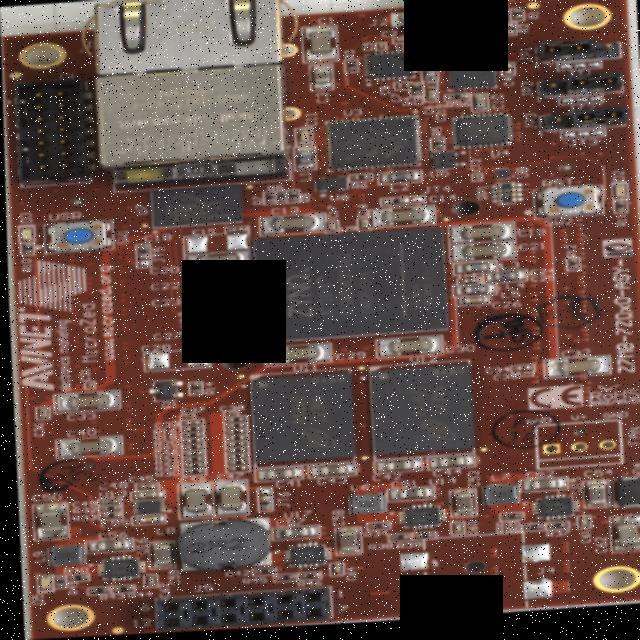-component text- -0821-1X1T-43-F 1402 WM-: (124, 85, 252, 111)
-component text- -4A377 D9PXV-: (284, 394, 328, 429), (405, 388, 448, 421)
-component text- -Bel Stewart-: (116, 112, 259, 131)
-component text- -M 08E1512-NNP2 NHM3390-8JW 1236 A0P TW-: (334, 127, 409, 167)
-component text- -VU81 T1 31 CBR1-: (539, 505, 565, 519), (406, 514, 433, 527), (290, 552, 317, 565)
-component text- -VUBI TI 31 CGRI-: (105, 562, 131, 575)
-component text- -XILINX ZYNQTM XC7Z010TM CLG400ACX1345 D4635668A 1C TAIWAN N6K3: (262, 249, 438, 323)
-component text- -YJ612 T1 36K 0KRP-: (373, 59, 407, 79)
-component text- 1AM: (157, 388, 167, 396)
-component text- 1R0: (50, 550, 73, 560), (485, 494, 510, 503), (352, 502, 375, 511)
-component text- 2R2: (184, 538, 246, 556)
-component text- 472: (500, 192, 510, 202)
-component text- C5Y8: (306, 377, 344, 387), (427, 370, 463, 380)
-component text- M: (414, 424, 446, 445), (296, 432, 328, 452)
-component text- MagJack: (115, 128, 267, 159)
-resistor jumper- JT4: (381, 199, 421, 208)
-resistor jumper- JT5: (135, 245, 148, 267)
-resistor jumper- JT6: (256, 490, 268, 513)
-resistor network- RP1: (489, 185, 521, 211)
2005: (180, 463, 201, 469)
2024: (346, 63, 356, 73)
2025: (181, 470, 201, 476)
2033: (97, 506, 117, 512)
2036: (97, 513, 117, 519)
2041: (366, 525, 386, 532)
2045: (498, 518, 518, 524)
2052: (520, 529, 540, 534)
2061: (543, 527, 564, 533)
2066: (387, 538, 407, 544)
2072: (410, 536, 430, 542)
2080: (411, 87, 421, 98)
2081: (63, 574, 83, 580)
2090: (50, 576, 60, 586)
2100: (249, 570, 271, 576)
2111: (85, 587, 105, 593)
2117: (108, 586, 128, 592)
2123: (271, 576, 291, 583)
2128: (295, 575, 315, 581)
2156: (432, 142, 441, 154)
2189: (349, 178, 370, 183)
2200: (264, 194, 274, 204)
2211: (275, 194, 285, 204)
2222: (286, 193, 295, 203)
2229: (445, 98, 467, 103)
2234: (224, 461, 245, 466), (225, 467, 245, 472), (224, 455, 244, 460), (224, 449, 244, 454), (224, 443, 244, 448), (222, 418, 242, 423), (223, 437, 243, 441), (223, 431, 243, 435), (223, 425, 243, 429)
2303: (39, 461, 90, 492)
2368: (502, 418, 538, 452)
2389: (477, 321, 530, 352)
2537: (583, 394, 640, 413)
2615: (540, 302, 586, 329)
2620: (601, 247, 636, 381)
2627: (51, 318, 72, 392)
2636: (92, 265, 116, 361)
2644: (499, 45, 509, 53), (332, 592, 340, 601), (535, 134, 541, 141), (532, 67, 539, 73), (533, 101, 539, 107)
2661: (127, 619, 149, 628)
2766: (133, 604, 147, 612)
2769: (332, 607, 346, 617)
2831: (14, 303, 52, 392)
2844: (316, 20, 333, 28)
2845: (489, 98, 504, 114)
2856: (301, 114, 318, 129)
2867: (467, 162, 480, 177)
2878: (268, 208, 298, 218)
2889: (427, 197, 457, 207)
2900: (189, 229, 215, 236)
2911: (354, 207, 366, 220)
2922: (325, 207, 337, 221)
2933: (141, 233, 171, 243)
2944: (515, 233, 544, 242)
2955: (380, 34, 398, 41)
2956: (146, 266, 177, 276)
2967: (516, 247, 542, 256)
2977: (432, 108, 445, 126)
2978: (147, 282, 178, 292)
2979: (418, 48, 430, 67)
2989: (148, 298, 179, 308)
3000: (527, 273, 553, 280)
3011: (528, 280, 554, 287)
3021: (488, 304, 518, 314)
3027: (149, 331, 181, 342)
3036: (137, 344, 169, 353)
3047: (333, 353, 364, 363)
3057: (313, 94, 328, 106)
3058: (442, 348, 473, 358)
3069: (76, 369, 88, 381)
3079: (557, 354, 589, 363)
3089: (62, 412, 93, 422)
3100: (481, 371, 507, 378)
3111: (489, 378, 515, 385)
3120: (29, 422, 41, 436)
3127: (176, 408, 202, 415)
3135: (215, 406, 241, 413)
3145: (150, 422, 175, 429)
3153: (502, 81, 514, 91)
3154: (62, 429, 94, 438)
3157: (271, 481, 298, 490)
3168: (367, 475, 400, 485)
3178: (312, 479, 343, 488)
3182: (428, 472, 458, 481)
3183: (123, 476, 151, 483)
3184: (175, 477, 202, 484)
3185: (212, 475, 240, 482)
3186: (93, 481, 124, 491)
3187: (67, 501, 93, 508)
3188: (361, 44, 373, 54)
3189: (26, 492, 59, 502)
3190: (385, 484, 413, 492)
3191: (521, 474, 551, 484)
3192: (462, 474, 477, 491)
3193: (579, 473, 609, 483)
3194: (95, 518, 127, 529)
3195: (93, 530, 125, 541)
3196: (270, 520, 303, 529)
3197: (327, 512, 341, 529)
3198: (163, 570, 176, 586)
3199: (421, 108, 433, 118)
3200: (462, 525, 474, 539)
3201: (575, 535, 588, 549)
3202: (589, 542, 604, 560)
3203: (154, 584, 165, 598)
3204: (341, 569, 353, 584)
3210: (389, 96, 401, 106)
3221: (377, 89, 390, 98)
3232: (412, 99, 422, 110)
3246: (526, 390, 579, 414)
3269: (475, 42, 488, 51)
3280: (609, 176, 623, 187)
3287: (16, 210, 31, 223)
3288: (625, 467, 640, 480)
3290: (26, 593, 41, 605)
3361: (622, 432, 638, 452)
3439: (521, 421, 548, 430), (598, 416, 625, 425)
3488: (83, 40, 92, 49)
3501: (367, 22, 388, 30)
3510: (52, 73, 75, 80)
3513: (532, 572, 552, 580)
3514: (189, 585, 211, 594)
3521: (516, 52, 533, 67)
3527: (519, 86, 533, 102)
3534: (522, 118, 537, 134)
3545: (564, 75, 592, 84)
3546: (563, 109, 599, 119)
3547: (565, 143, 598, 153)
3548: (418, 188, 451, 198)
3549: (149, 247, 164, 264)
3550: (272, 493, 289, 510)
3561: (296, 174, 311, 185)
3563: (386, 187, 408, 195)
3564: (496, 266, 518, 274)
3565: (502, 287, 524, 295)
3566: (497, 295, 520, 304)
3567: (345, 486, 367, 494)
3568: (486, 477, 508, 486)
3569: (150, 527, 172, 536)
3570: (27, 550, 42, 562)
3626: (74, 301, 96, 363)
3753: (157, 402, 174, 410)
3766: (527, 16, 539, 25)
3767: (19, 258, 31, 272)
3778: (613, 220, 625, 233)
3789: (563, 249, 575, 263)
3800: (188, 313, 201, 327)
3811: (201, 382, 213, 397)
3833: (148, 428, 174, 435)
3855: (148, 435, 173, 442)
3877: (517, 28, 529, 38)
3878: (149, 441, 177, 448)
3900: (150, 446, 176, 453)
3932: (150, 453, 176, 460)
3943: (150, 459, 176, 466)
3965: (150, 465, 177, 472)
3985: (342, 52, 354, 62)
3986: (151, 471, 177, 478)
3997: (67, 507, 94, 514)
4001: (67, 514, 93, 522)
4006: (359, 533, 385, 540)
4010: (491, 525, 517, 532)
4018: (491, 530, 517, 538)
4027: (540, 534, 567, 543)
4032: (364, 546, 390, 553)
4038: (391, 545, 417, 552)
4046: (399, 100, 411, 110)
4047: (58, 566, 84, 573)
4056: (62, 582, 74, 595)
4066: (220, 572, 246, 579)
4077: (93, 594, 121, 601)
4083: (121, 591, 150, 599)
4089: (236, 578, 263, 586)
4094: (291, 582, 319, 589)
4122: (428, 130, 442, 141)
4157: (349, 185, 367, 192)
4168: (249, 197, 261, 207)
4179: (264, 186, 282, 193)
4190: (298, 195, 309, 205)
4197: (443, 105, 469, 112)
4226: (473, 190, 488, 205)
4234: (537, 182, 574, 194)
4266: (113, 230, 128, 246)
4270: (541, 222, 572, 232)
4341: (393, 47, 410, 54)
4342: (174, 312, 188, 329)
4343: (289, 366, 315, 374)
4344: (405, 358, 437, 367)
4345: (93, 489, 124, 499)
4346: (424, 480, 454, 489)
4347: (565, 481, 579, 498)
4348: (130, 538, 145, 555)
4349: (278, 511, 309, 521)
4352: (478, 55, 499, 63)
4363: (340, 111, 362, 120)
4367: (487, 153, 508, 162)
4368: (427, 173, 448, 181)
4369: (326, 196, 349, 204)
4370: (132, 203, 146, 216)
4371: (514, 171, 528, 183)
4372: (337, 228, 353, 234)
4383: (45, 211, 81, 221)
4384: (566, 418, 584, 426)
4440: (144, 380, 182, 401)
button SW1: (45, 219, 110, 253)
button SW2: (529, 189, 603, 225)
capacitor C10: (303, 28, 336, 65)
capacitor C100: (472, 98, 485, 115)
capacitor C110: (296, 131, 309, 147)
capacitor C120: (473, 178, 480, 184)
capacitor C130: (260, 216, 322, 236)
capacitor C140: (369, 210, 431, 230)
capacitor C150: (225, 228, 245, 234)
capacitor C160: (358, 222, 368, 232)
capacitor C170: (325, 224, 335, 234)
capacitor C190: (448, 227, 511, 247)
capacitor C20: (395, 42, 404, 44)
capacitor C200: (184, 253, 247, 273)
capacitor C210: (448, 246, 512, 265)
capacitor C22: (424, 84, 434, 88)
capacitor C220: (185, 272, 247, 291)
capacitor C221: (422, 67, 436, 83)
capacitor C230: (185, 290, 248, 309)
capacitor C240: (459, 278, 469, 282)
capacitor C250: (457, 282, 477, 287)
capacitor C260: (455, 300, 486, 309)
capacitor C270: (186, 328, 248, 349)
capacitor C290: (263, 347, 327, 366)
capacitor C30: (311, 68, 330, 91)
capacitor C300: (375, 340, 438, 360)
capacitor C310: (83, 382, 90, 388)
capacitor C321: (543, 362, 606, 382)
capacitor C330: (53, 391, 116, 412)
capacitor C340: (510, 369, 530, 376)
capacitor C350: (519, 375, 528, 380)
capacitor C362: (35, 407, 45, 417)
capacitor C370: (180, 416, 190, 420)
capacitor C380: (222, 414, 232, 417)
capacitor C390: (178, 421, 199, 426)
capacitor C400: (55, 437, 117, 457)
capacitor C418: (253, 470, 297, 483)
capacitor C420: (373, 462, 418, 476)
capacitor C430: (307, 466, 351, 479)
capacitor C45: (426, 459, 470, 472)
capacitor C46: (133, 484, 155, 491)
capacitor C47: (176, 483, 209, 519)
capacitor C48: (211, 481, 243, 517)
capacitor C49: (129, 490, 160, 501)
capacitor C5: (96, 499, 116, 505)
capacitor C50: (376, 46, 384, 52)
capacitor C51: (31, 502, 65, 539)
capacitor C52: (385, 490, 430, 503)
capacitor C53: (519, 483, 563, 495)
capacitor C54: (448, 494, 471, 521)
capacitor C55: (581, 486, 604, 513)
capacitor C56: (131, 516, 161, 524)
capacitor C57: (84, 539, 128, 552)
capacitor C58: (270, 528, 314, 541)
capacitor C59: (332, 531, 356, 557)
capacitor C6: (146, 543, 169, 569)
capacitor C60: (424, 89, 435, 92)
capacitor C61: (449, 526, 459, 538)
capacitor C62: (575, 521, 585, 533)
capacitor C63: (608, 521, 640, 557)
capacitor C64: (141, 576, 151, 587)
capacitor C65: (327, 566, 337, 577)
capacitor C70: (403, 85, 409, 91)
capacitor C80: (395, 86, 402, 92)
capacitor C90: (425, 92, 435, 104)
connector: (534, 444, 612, 461)
connector J20: (387, 0, 504, 45)
connector J30: (10, 77, 95, 187)
connector J6: (150, 589, 327, 632)
connector JP11: (594, 47, 621, 64)
connector JP20: (536, 85, 566, 103)
connector JP34: (539, 118, 569, 137)
connector USB: (78, 0, 304, 196)
diode D10: (431, 42, 472, 62)
diode D5: (607, 480, 640, 515)
ic U1: (362, 53, 417, 85)
ic U10: (202, 308, 232, 327)
ic U11: (365, 367, 472, 459), (247, 374, 353, 466)
ic U13: (128, 500, 163, 516)
ic U14: (394, 505, 444, 534)
ic U15: (528, 497, 576, 526)
ic U16: (93, 554, 143, 583)
ic U17: (279, 543, 328, 572)
ic U2: (444, 65, 496, 96)
ic U3: (322, 118, 420, 176)
ic U4: (447, 116, 512, 153)
ic U5: (428, 155, 458, 173)
ic U6: (312, 178, 347, 196)
ic U7: (148, 186, 241, 230)
ic U8: (493, 173, 509, 183)
ic U9: (250, 230, 446, 345)
inductor L10: (295, 149, 311, 171)
inductor L3: (453, 267, 493, 277)
inductor L3 -3R3 X4-: (378, 174, 419, 186)
inductor L4: (482, 275, 523, 287)
inductor L5: (452, 288, 492, 299)
inductor L7: (347, 495, 380, 517)
inductor L8: (480, 487, 515, 509)
inductor L9: (174, 518, 268, 574)
inductor unknown: (46, 543, 80, 566)
jumper JP1: (535, 43, 595, 66)
jumper JP2: (564, 77, 623, 100)
jumper JP3: (567, 112, 628, 134)
led D2: (612, 189, 625, 204)
led D3: (19, 226, 31, 240)
led D5: (32, 575, 49, 592)
pads C18: (183, 235, 246, 255)
pads C28: (143, 350, 205, 371)
pads C4: (502, 68, 513, 78)
pads J4: (395, 546, 550, 612)
pads JT1: (557, 66, 600, 75)
pads JT2: (558, 100, 600, 109)
pads JT3: (562, 135, 602, 143)
pads R2: (504, 28, 514, 38)
resistor R10: (511, 13, 521, 24)
resistor R100: (21, 243, 30, 253)
resistor R110: (613, 207, 623, 218)
resistor R120: (566, 263, 576, 275)
resistor R130: (236, 311, 247, 321)
resistor R140: (188, 383, 198, 396)
resistor R160: (179, 427, 199, 433)
resistor R180: (179, 433, 199, 439)
resistor R200: (179, 439, 200, 445)
resistor R220: (180, 445, 200, 451)
resistor R250: (180, 452, 200, 458)
resistor R260: (180, 458, 200, 464)
